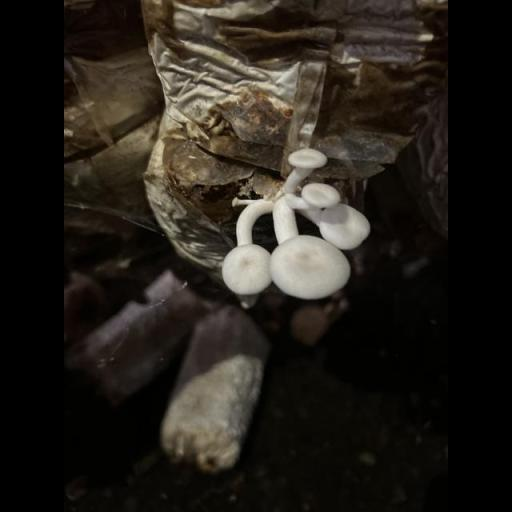White Oyster Mushroom: (223, 146, 370, 301)
